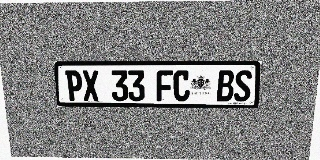3: (111, 70, 128, 101), (128, 70, 145, 101)
B: (216, 70, 235, 101)
C: (173, 70, 190, 101)
F: (156, 70, 173, 101)
P: (65, 70, 83, 101)
S: (234, 70, 252, 102)
X: (82, 70, 99, 101)
